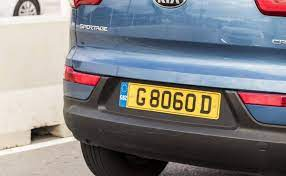number_plate: (116, 76, 233, 128)
